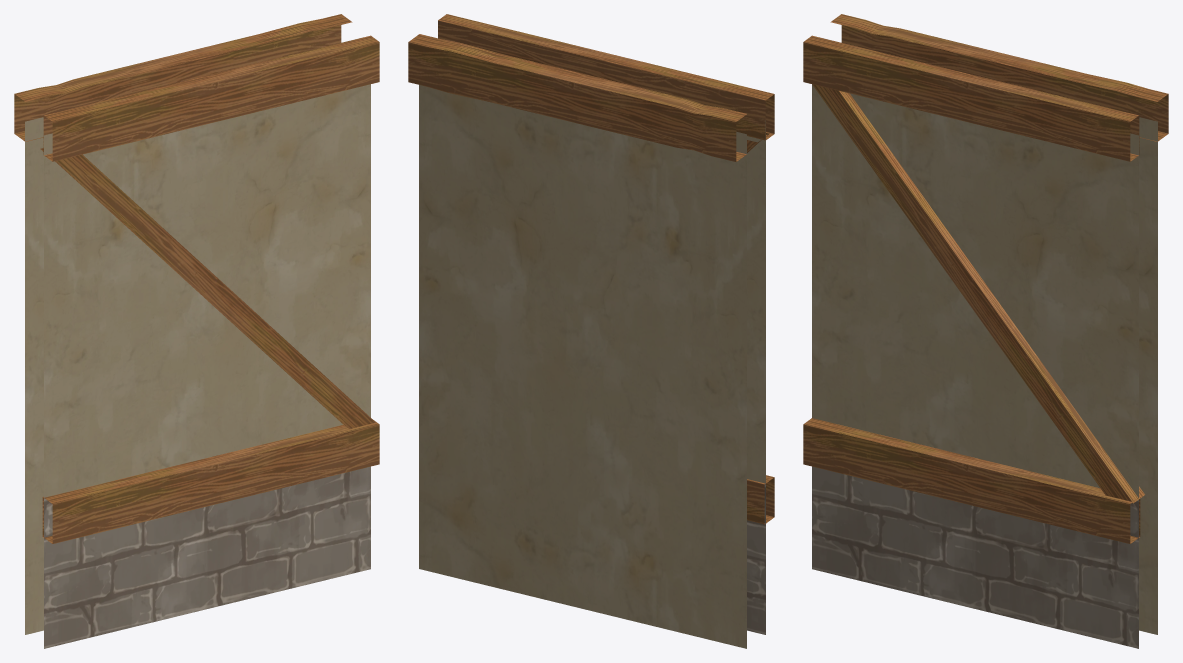
File: Wall_Plaster_Straight_L.gltf
The picture shows the model from 3 angles, left to right: view 1: azimuth 30°, elevation 25°; view 2: azimuth 150°, elevation 25°; view 3: azimuth 330°, elevation 25°; orthographic projection.
Parts seen in each view (by area): view 1: Wall_Plaster_Straight_L; view 2: Wall_Plaster_Straight_L; view 3: Wall_Plaster_Straight_L.
Part boxes in pixels (left/top/right/bottom): Wall_Plaster_Straight_L: left=14, top=14, right=379, bottom=648; Wall_Plaster_Straight_L: left=408, top=14, right=774, bottom=648; Wall_Plaster_Straight_L: left=803, top=14, right=1168, bottom=648.
Bounding box in the file's own units: 2 × 3.12 × 0.4065.
3 materials, 3 textured.
